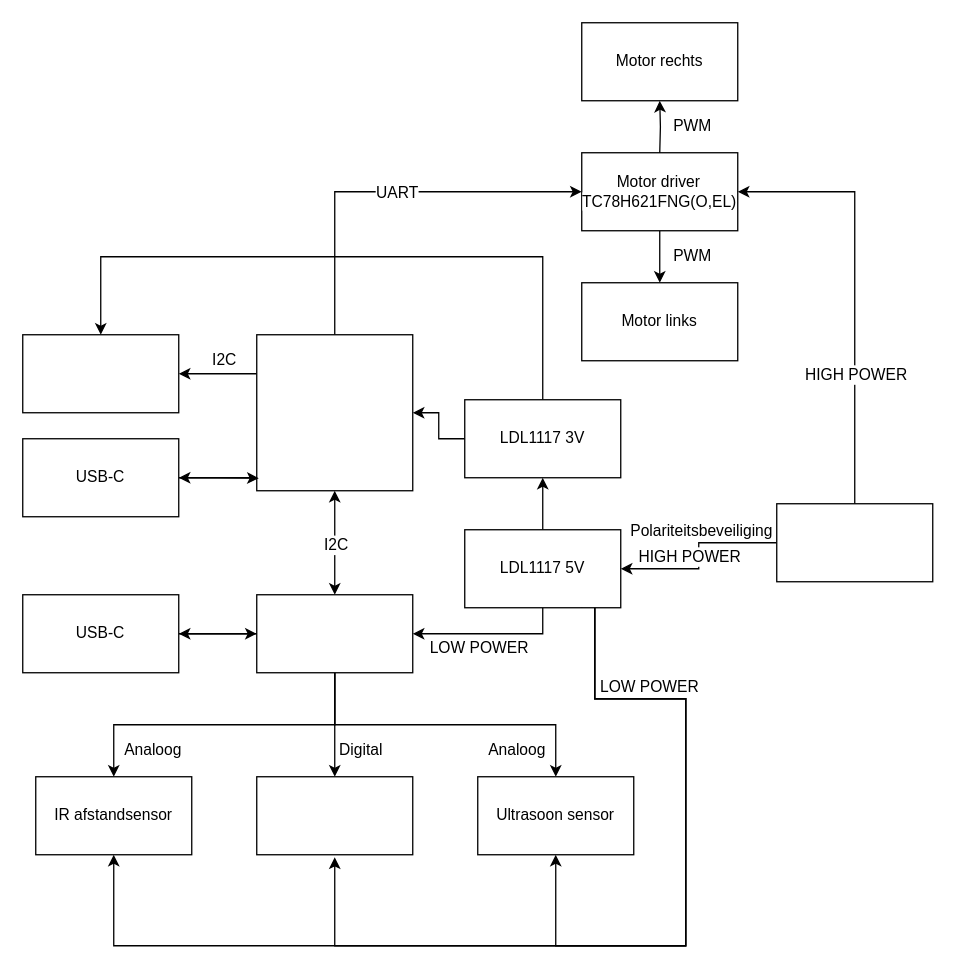
Some shapes in this 955 by 979 pixel diagram are drawn without their labels. The shapes that lost their labels are listed below. From the top down, each one's centre as x and y in pixels, then its label:
the point at 100,373: OLED
the point at 334,412: ESP32 Wrover
the point at 854,542: Batterij (7.2V, min 700mA)
the point at 334,633: ATMega328P
the point at 334,815: Lijnsensor
